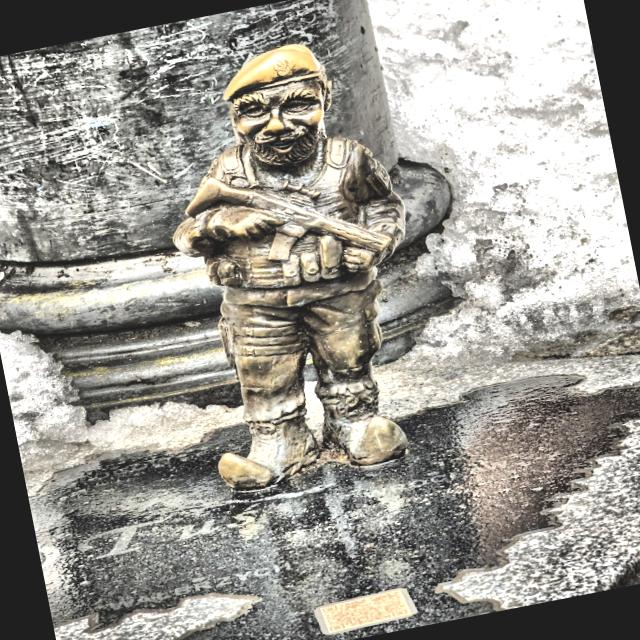WOTus: (174, 44, 408, 491)
